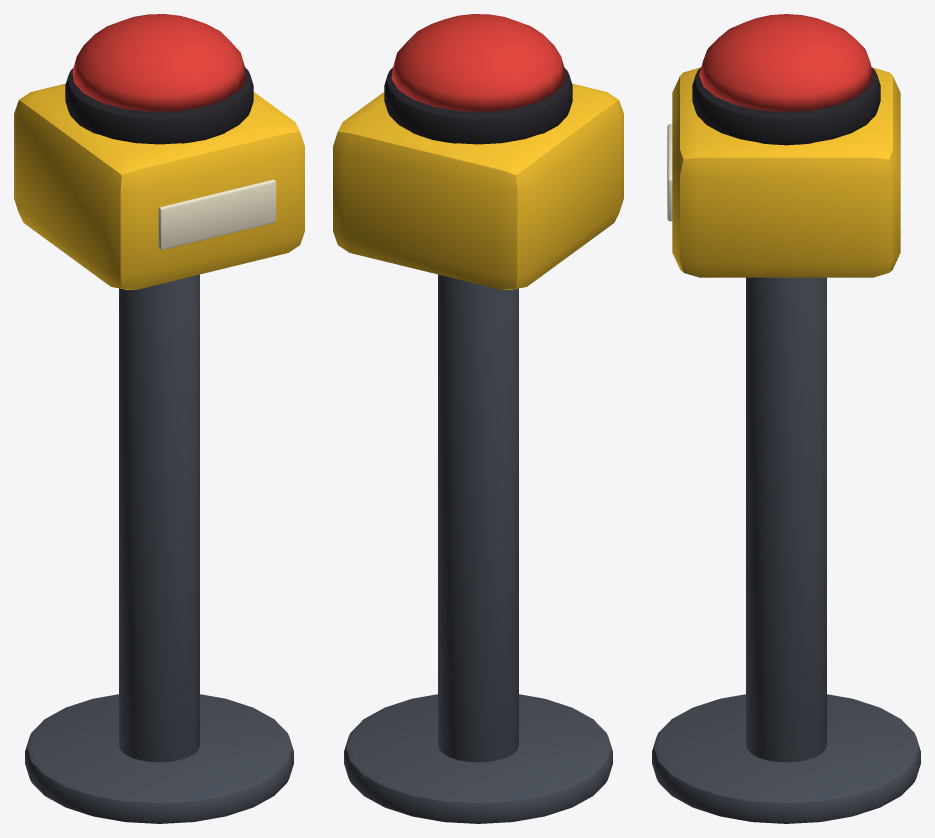
File: BigButton.fbx
3 renders of one model, left to right at view 1: azimuth 30°, elevation 25°; view 2: azimuth 150°, elevation 25°; view 3: azimuth 270°, elevation 25°, orthographic.
Parts seen in each view (by area): view 1: Prop_BigButton; view 2: Prop_BigButton; view 3: Prop_BigButton.
Boxes of the visible parts, box(x1,y1,x2,y2) form: Prop_BigButton: box(14, 14, 304, 823); Prop_BigButton: box(333, 14, 623, 823); Prop_BigButton: box(652, 14, 920, 823).
Size of the model in its own units: 0.4 by 1.25 by 0.4.
